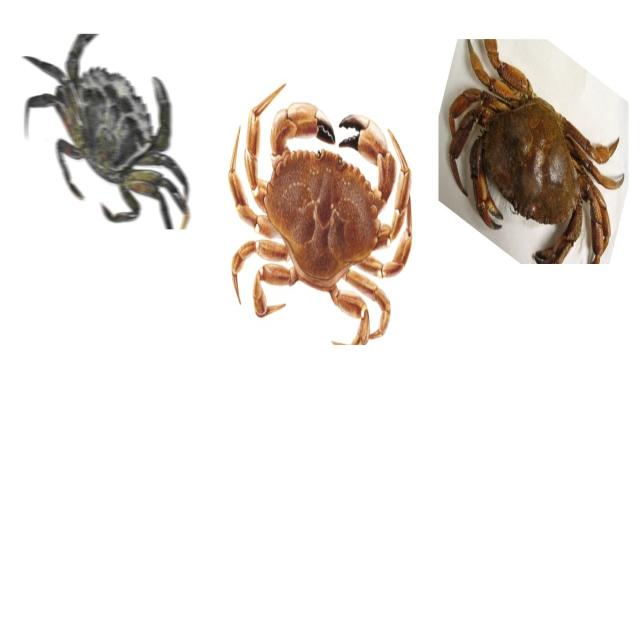egc: (22, 30, 196, 228)
jonah_crab: (228, 80, 416, 346)
rock_crab: (443, 28, 627, 267)
